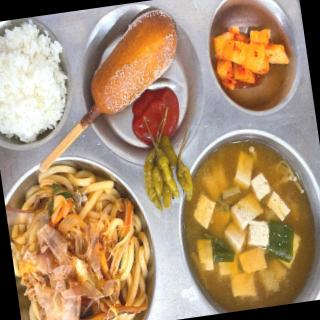Nasi: (1, 23, 68, 138)
